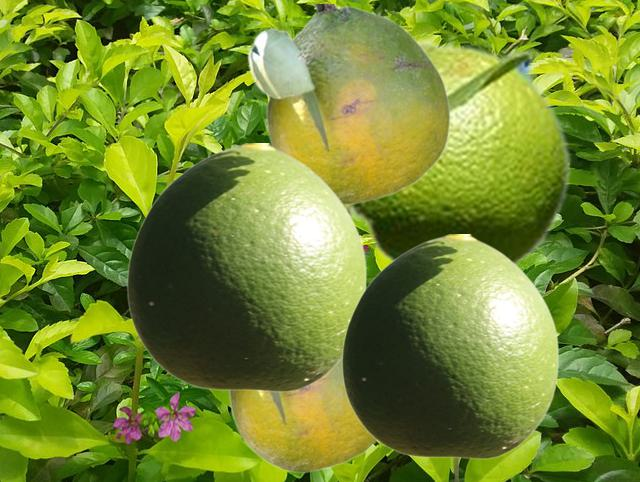dalandan: (126, 143, 366, 391), (345, 39, 572, 265), (341, 234, 558, 458), (246, 4, 450, 204), (228, 362, 376, 472)
